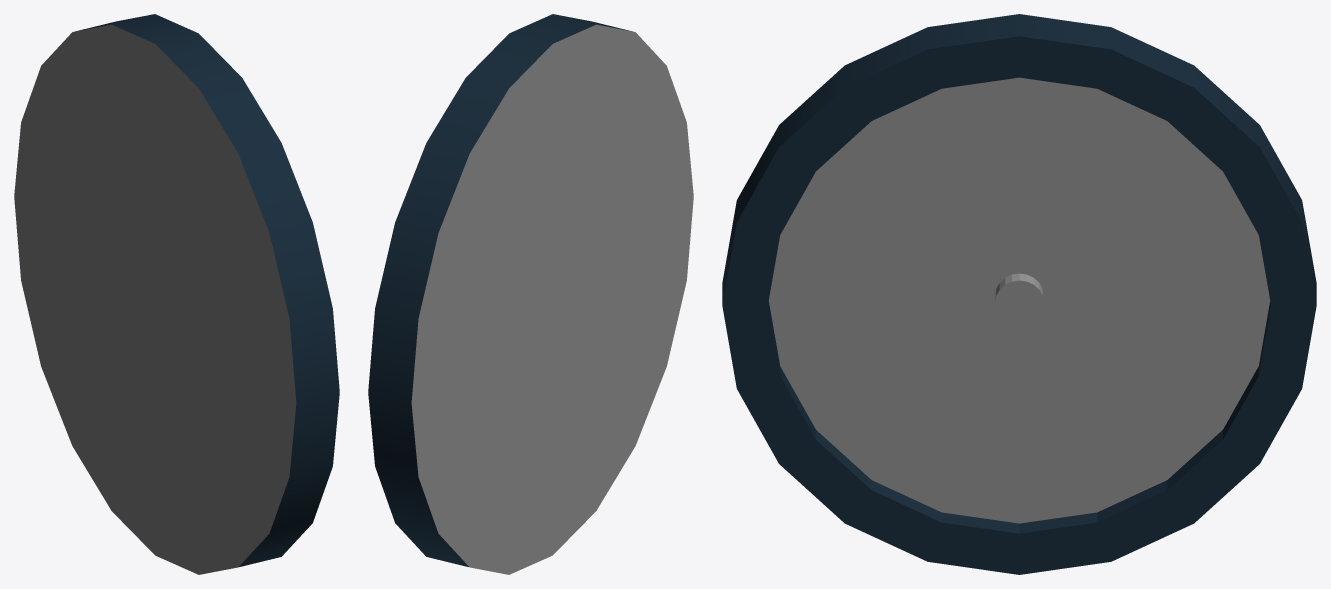
The model's file is Clock.FBX.
3 renders of one model, left to right at view 1: azimuth 30°, elevation 25°; view 2: azimuth 150°, elevation 25°; view 3: azimuth 270°, elevation 25°, orthographic. The views are drawn at different scales.
Parts seen in each view (by area): view 1: Cylinder003; view 2: Cylinder003; view 3: Cylinder003.
Boxes of the visible parts, x1=… form: Cylinder003: x1=14, y1=14, x2=339, y2=574; Cylinder003: x1=368, y1=14, x2=693, y2=574; Cylinder003: x1=722, y1=14, x2=1316, y2=574.
Bounding box in the file's own units: 1.21 × 13.61 × 13.61.
